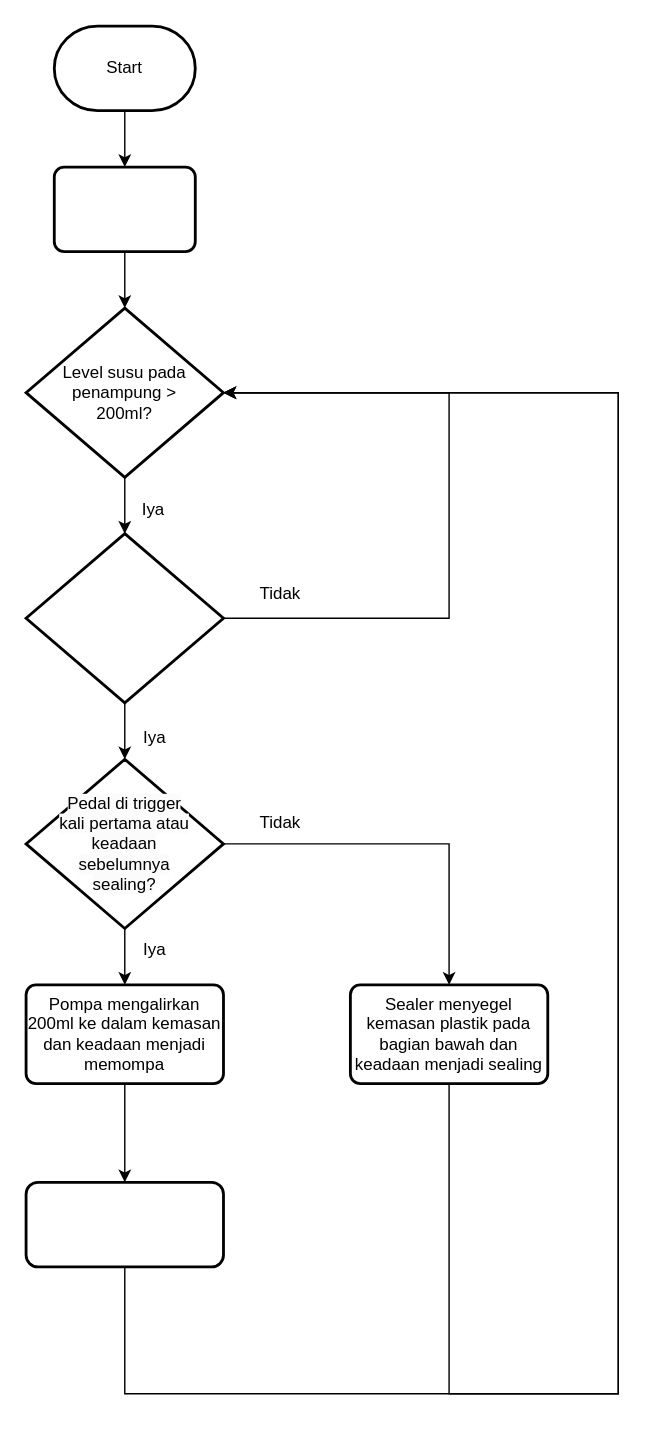
This 654x1430 diagram has some shape labels left out. The shapes that lost their labels are listed below. From the top down, each one's centre as x and y in pixels, then its label:
At (124,208): "Inisialisasi wifi, pin, dan firebase".
At (124,618): "Proximity sensor plastik di trigger?".
At (124,1224): "Jumlah kemasan terkemas pada database ditambahkan 1".
